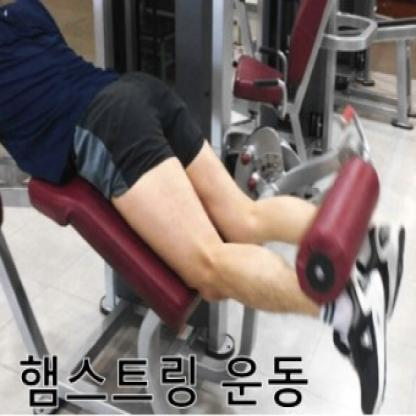reg curl machine: (0, 0, 409, 416)
